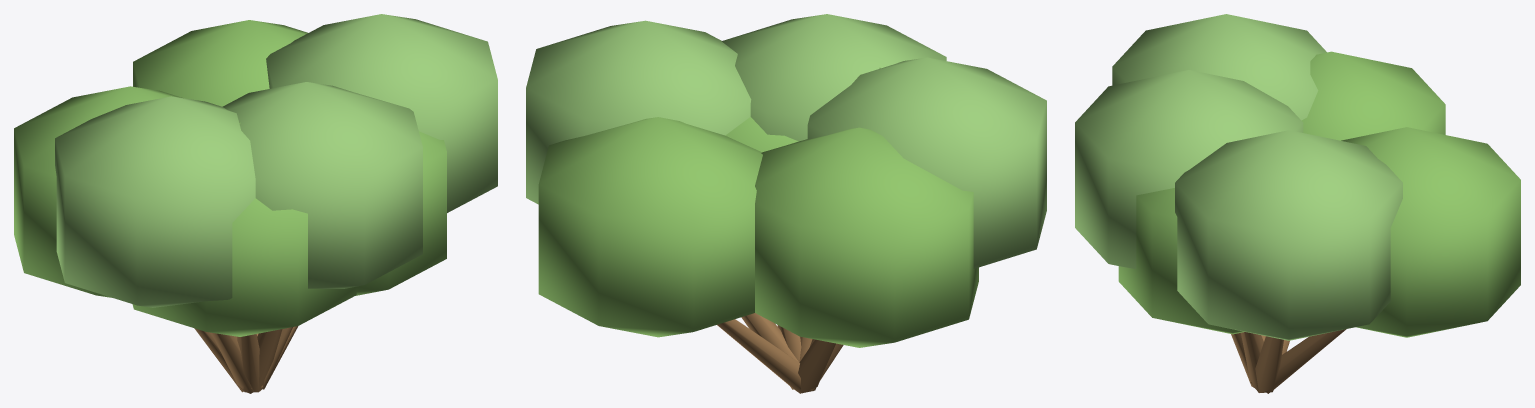
The model's file is shrub_02.glb.
3 renders of one model, left to right at view 1: azimuth 30°, elevation 25°; view 2: azimuth 150°, elevation 25°; view 3: azimuth 270°, elevation 25°, orthographic. The views are drawn at different scales.
Size of the model in its own units: 0.6664 by 0.4663 by 0.5754.
